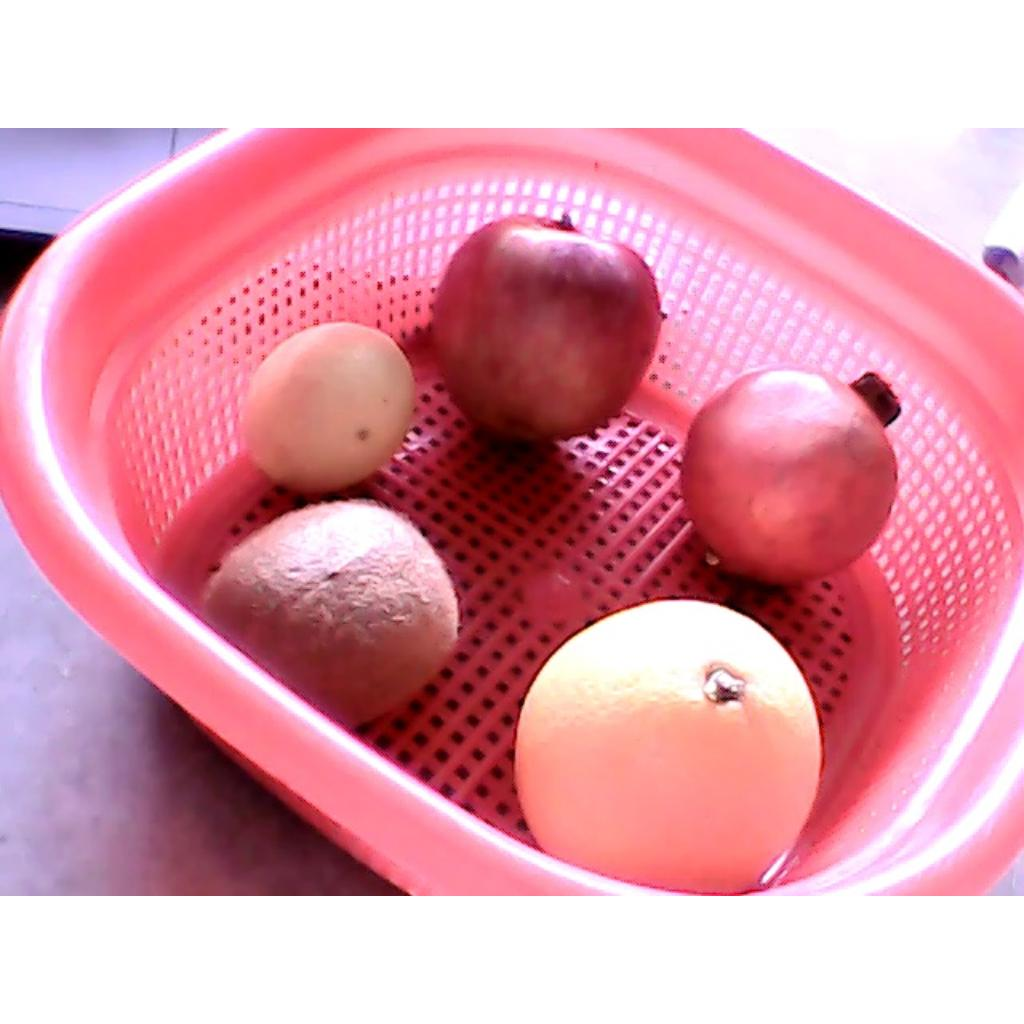apple: (431, 210, 662, 442)
kiwi: (198, 502, 458, 729)
lemon: (243, 323, 414, 495)
orange: (515, 601, 823, 896)
pomegranate: (683, 366, 907, 587)
